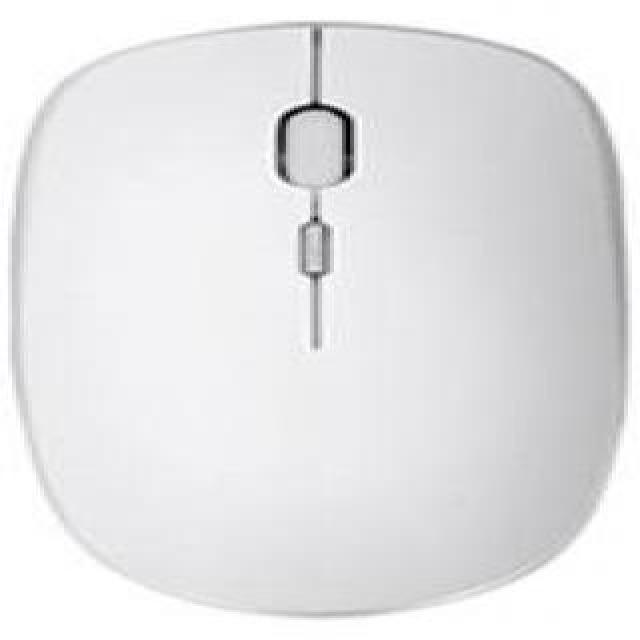mouse: (20, 26, 621, 626)
